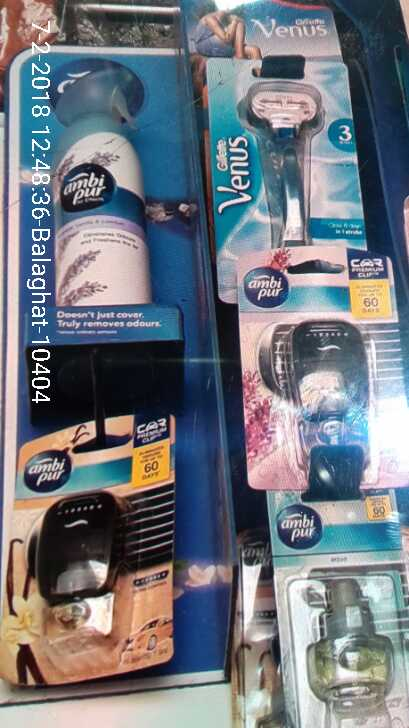beauty: (206, 53, 355, 242)
home: (237, 253, 409, 486), (16, 419, 170, 672), (270, 487, 405, 728), (54, 58, 150, 320)
